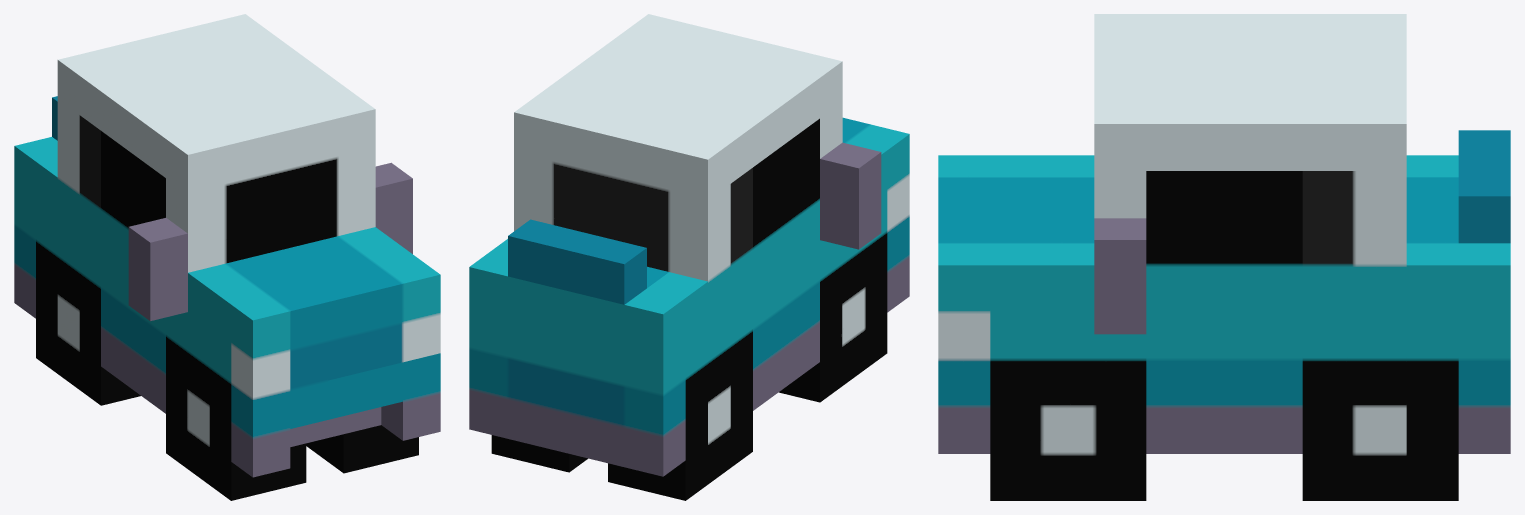
File: car.gltf
The picture shows the model from 3 angles, left to right: view 1: azimuth 30°, elevation 25°; view 2: azimuth 150°, elevation 25°; view 3: azimuth 270°, elevation 25°; orthographic projection. The views are drawn at different scales.
Parts seen in each view (by area): view 1: Electric; view 2: Electric; view 3: Electric.
Boxes of the visible parts, left/top/right/bottom form: Electric: left=14, top=14, right=440, bottom=500; Electric: left=469, top=14, right=909, bottom=500; Electric: left=938, top=14, right=1510, bottom=500.
Size of the model in its own units: 0.84 by 0.96 by 1.32.
1 material, 1 textured.
